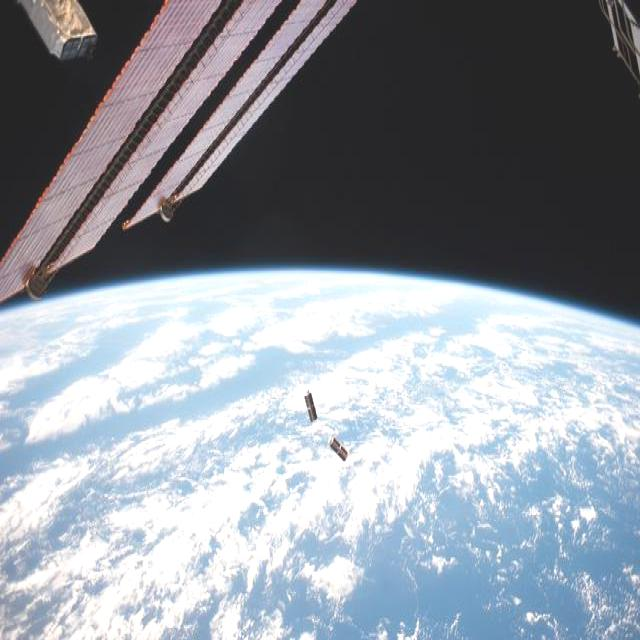satellite: (0, 1, 355, 302), (22, 0, 95, 57), (329, 437, 349, 460), (304, 390, 318, 421)
